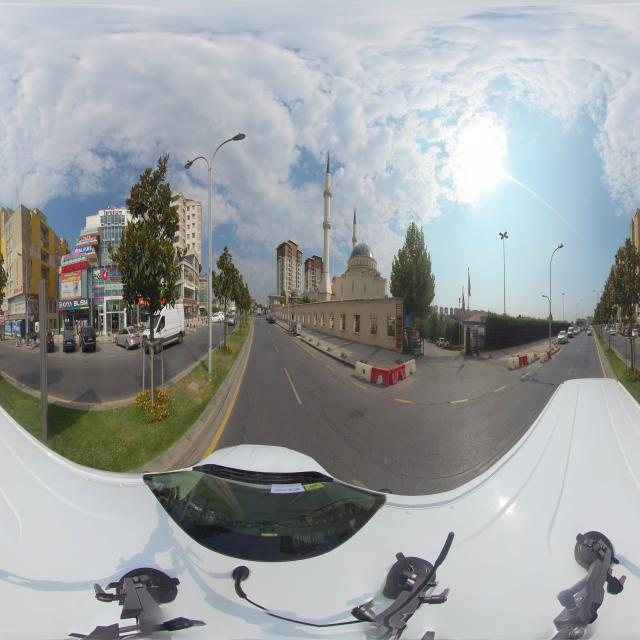SignStore: (58, 260, 88, 275), (58, 298, 89, 310), (75, 245, 92, 252), (0, 315, 8, 322), (201, 305, 205, 308)
